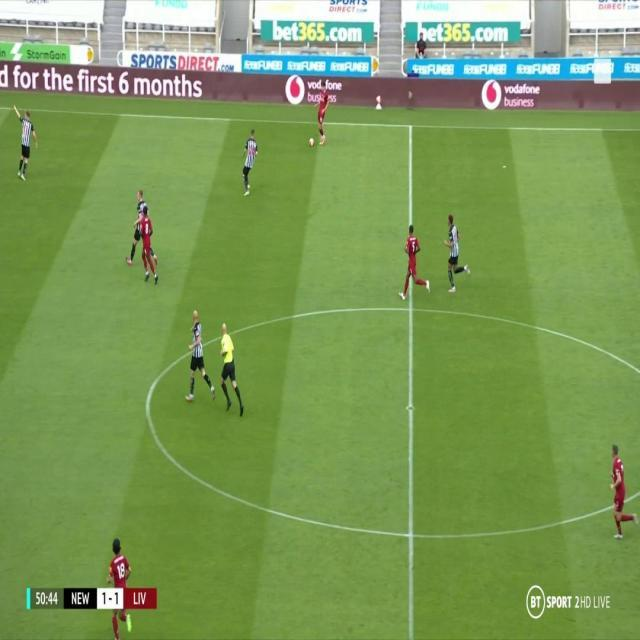ball: (308, 136, 315, 148)
player: (184, 311, 216, 408), (108, 533, 134, 640), (607, 450, 635, 544), (398, 225, 431, 301), (441, 215, 470, 293), (14, 106, 39, 183), (137, 205, 159, 286), (311, 80, 336, 149), (127, 190, 147, 271), (239, 128, 261, 198)
referee: (217, 322, 245, 418)
